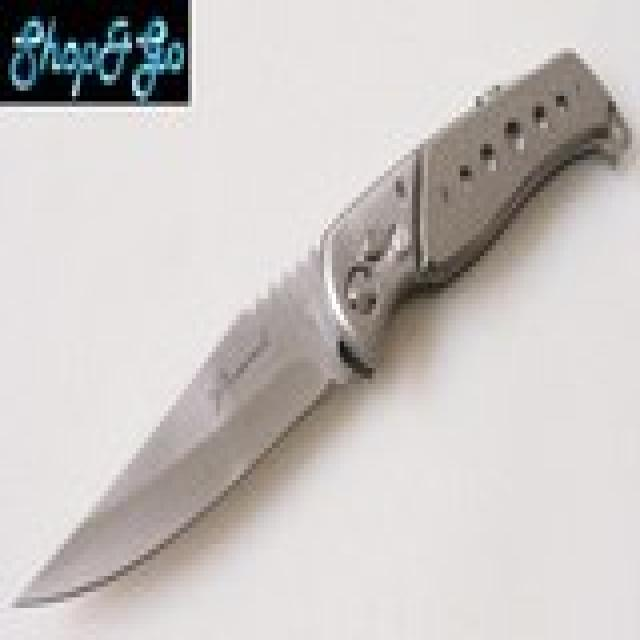Knife: (3, 50, 638, 630)
